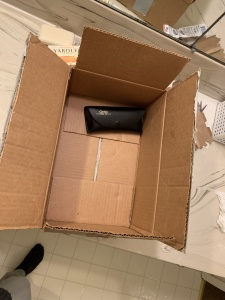innerbox: (65, 72, 147, 228)
outerbox: (1, 25, 190, 253)
product: (82, 104, 145, 136)
